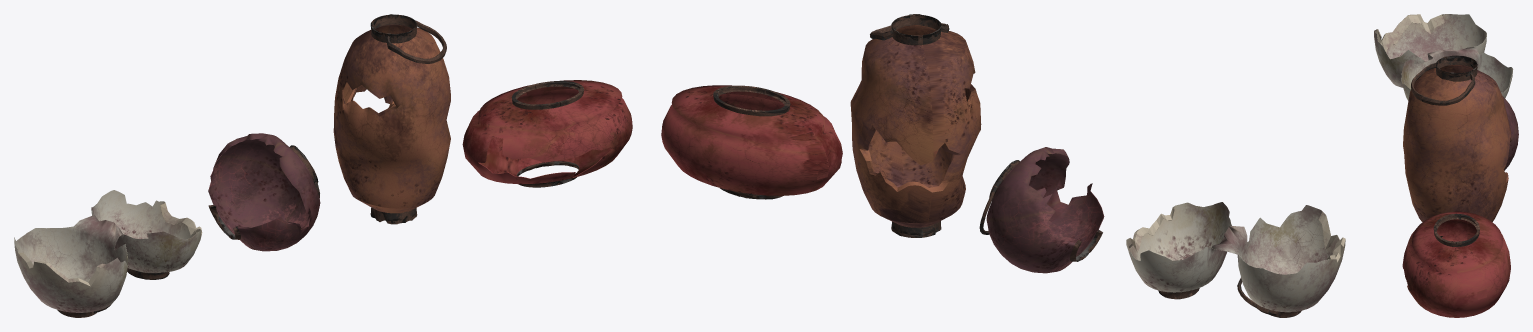
File: lantern 2meter.FBX
3 renders of one model, left to right at view 1: azimuth 30°, elevation 25°; view 2: azimuth 150°, elevation 25°; view 3: azimuth 270°, elevation 25°, orthographic. The views are drawn at different scales.
Parts seen in each view (by area): view 1: Sphere003, Sphere001, Sphere004, Sphere002; view 2: Sphere003, Sphere001, Sphere004, Sphere002; view 3: Sphere003, Sphere004, Sphere001, Sphere002.
Part boxes in pixels (x1,y1,x2,y2): Sphere003: [333, 14, 450, 224]; Sphere001: [14, 190, 202, 317]; Sphere004: [462, 80, 632, 187]; Sphere002: [208, 133, 320, 251]; Sphere003: [850, 14, 981, 237]; Sphere001: [1126, 202, 1345, 317]; Sphere004: [661, 85, 842, 199]; Sphere002: [979, 147, 1104, 273]; Sphere003: [1403, 55, 1511, 237]; Sphere004: [1402, 211, 1510, 317]; Sphere001: [1374, 14, 1513, 100]; Sphere002: [1502, 96, 1518, 170].
Bounding box in the file's own units: 89.3 × 27.16 × 20.14.
